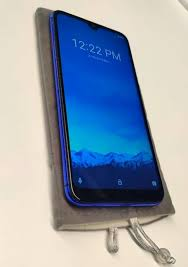lg: (46, 5, 164, 210)
